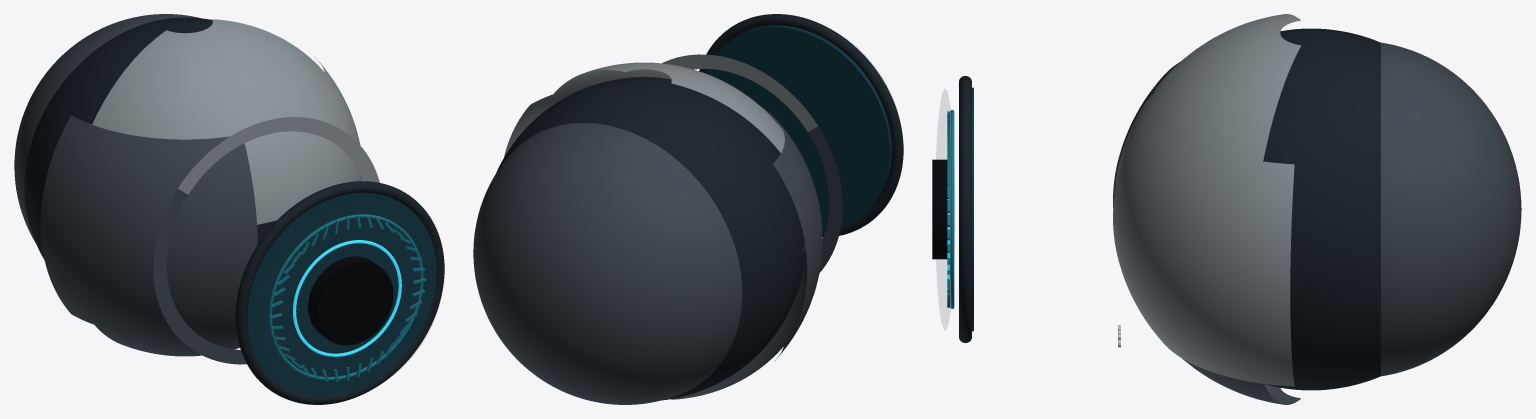
The model's file is oes-petal-core-stage-d.glb.
3 renders of one model, left to right at view 1: azimuth 30°, elevation 25°; view 2: azimuth 150°, elevation 25°; view 3: azimuth 270°, elevation 25°, orthographic. The views are drawn at different scales.
Visible parts, largest first — view 1: petal_left_shell, petal_top_shell, iris_recess, optical_lens, graphite_spherical_core, optical_outer_bezel, pupil, petal_right_shell, rear_titanium_cap, petal_top_expression_rim, petal_left_expression_rim, iris_depth_ring (+4 smaller); view 2: rear_titanium_cap, graphite_spherical_core, iris_recess, optical_outer_bezel, petal_top_shell, petal_left_shell, petal_top_expression_rim, petal_bottom_shell, petal_left_expression_rim, petal_right_shell; view 3: petal_right_shell, rear_titanium_cap, graphite_spherical_core, petal_top_shell, optical_outer_bezel, pupil, petal_bottom_shell, optical_lens, iris_depth_ring.
Boxes of the visible parts, box(x1,y1,x2,y2) form: petal_left_shell: box(40, 115, 257, 338); petal_top_shell: box(92, 19, 325, 224); iris_recess: box(247, 192, 436, 396); optical_lens: box(256, 199, 442, 399); graphite_spherical_core: box(24, 17, 276, 259); optical_outer_bezel: box(235, 181, 444, 404); pupil: box(308, 256, 393, 345); petal_right_shell: box(270, 57, 363, 209); rear_titanium_cap: box(14, 14, 200, 242); petal_top_expression_rim: box(178, 117, 358, 194); petal_left_expression_rim: box(153, 189, 187, 336); iris_depth_ring: box(268, 214, 423, 380); rear_titanium_cap: box(473, 123, 742, 404); graphite_spherical_core: box(496, 77, 805, 400); iris_recess: box(706, 25, 891, 229); optical_outer_bezel: box(699, 14, 903, 237); petal_top_shell: box(540, 62, 784, 152); petal_left_shell: box(760, 106, 822, 361); petal_top_expression_rim: box(662, 54, 817, 131); petal_bottom_shell: box(671, 254, 807, 399); petal_left_expression_rim: box(808, 126, 842, 272); petal_right_shell: box(504, 94, 552, 157); petal_right_shell: box(1113, 105, 1294, 386); rear_titanium_cap: box(1380, 42, 1521, 376); graphite_spherical_core: box(1263, 28, 1381, 390); petal_top_shell: box(1116, 14, 1301, 185); optical_outer_bezel: box(959, 76, 971, 342); pupil: box(932, 159, 947, 259); petal_bottom_shell: box(1182, 358, 1300, 404); optical_lens: box(936, 89, 950, 329); iris_depth_ring: box(950, 110, 954, 308).
Bounding box in the file's own units: 3.9 × 3.83 × 5.8.
